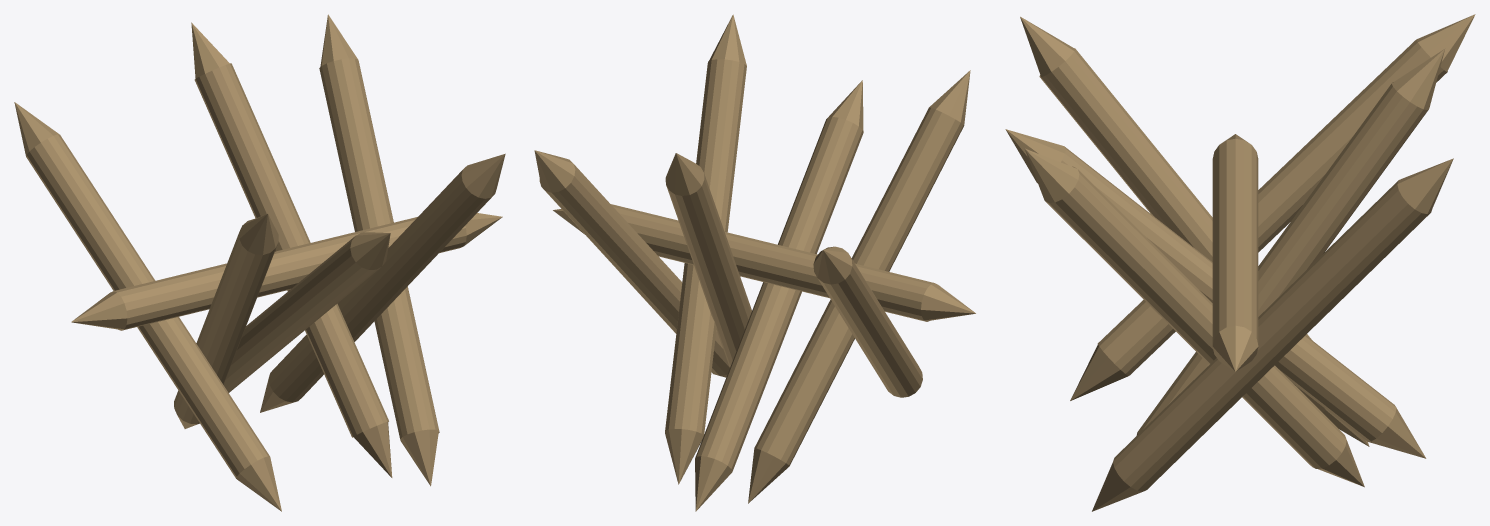
Rendered from Spike_trap.fbx.
3 renders of one model, left to right at view 1: azimuth 30°, elevation 25°; view 2: azimuth 150°, elevation 25°; view 3: azimuth 270°, elevation 25°, orthographic. The views are drawn at different scales.
Visible parts, largest first — view 1: Spike_Trap; view 2: Spike_Trap; view 3: Spike_Trap.
Part boxes in pixels (x1,y1,x2,y2): Spike_Trap: [14, 14, 505, 511]; Spike_Trap: [534, 14, 975, 511]; Spike_Trap: [1005, 14, 1475, 511].
Size of the model in its own units: 3120 by 2571 by 2604.
